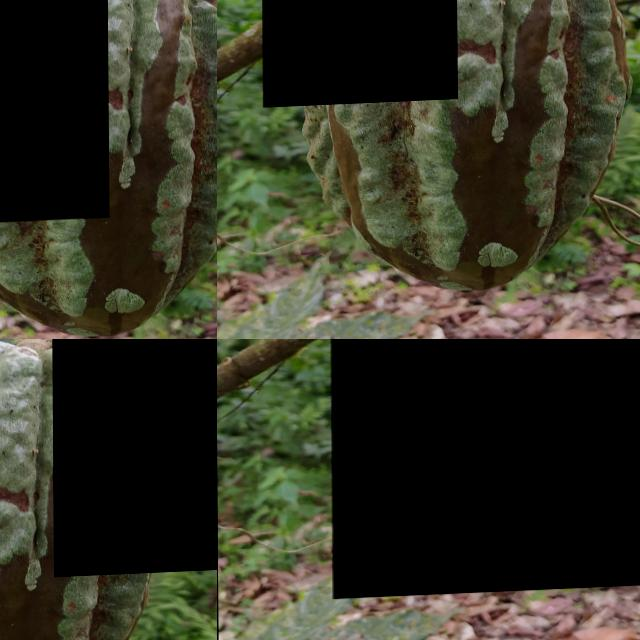Sana: (329, 339, 640, 600), (51, 339, 217, 580), (0, 0, 108, 228), (260, 0, 456, 108), (0, 339, 92, 550)
